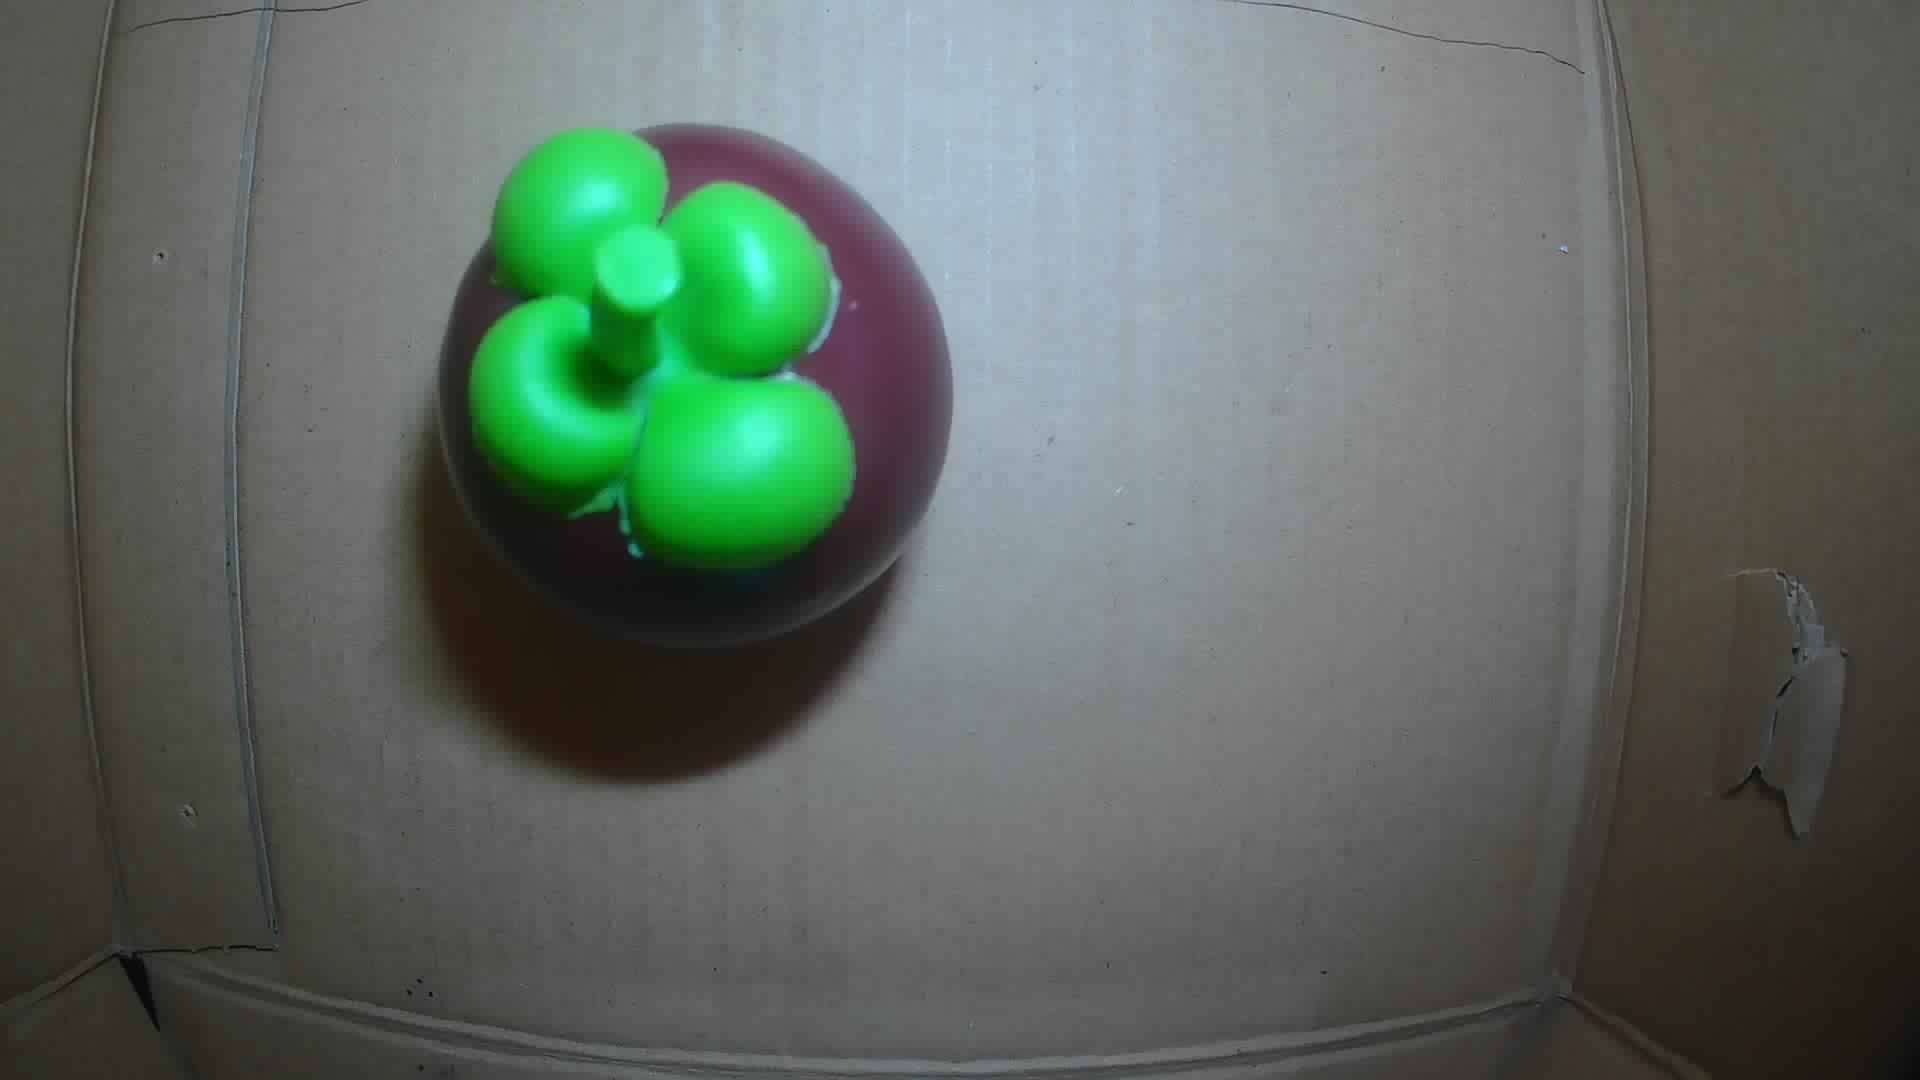mangosteen: (440, 123, 956, 644)
